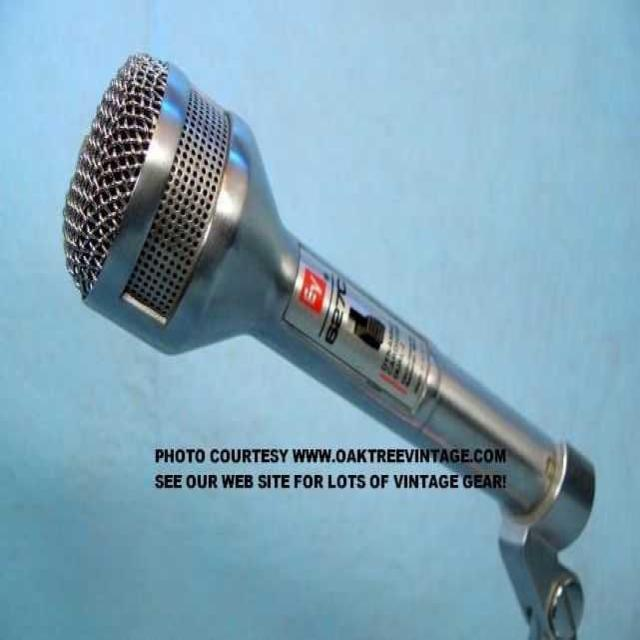microphone: (70, 52, 564, 537)
